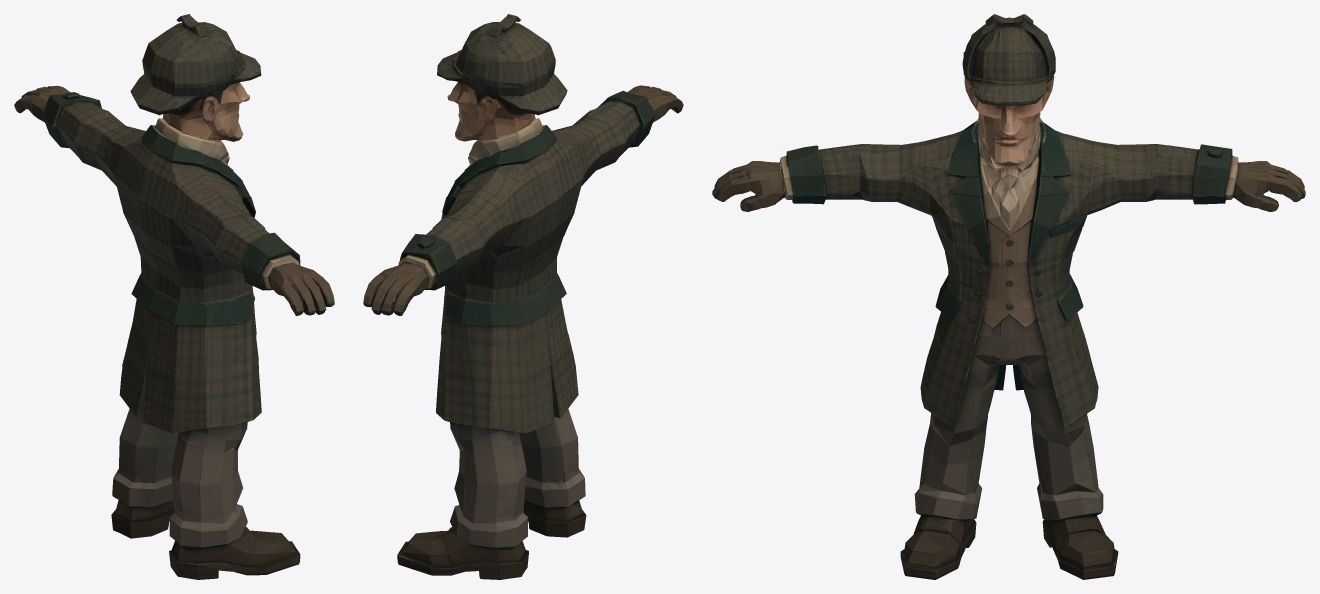
Rendered from tripo_convert_c5e42cd3-8e80-4c07-b849-3c092d88e322.fbx.
The picture shows the model from 3 angles, left to right: view 1: azimuth 30°, elevation 25°; view 2: azimuth 150°, elevation 25°; view 3: azimuth 270°, elevation 25°; orthographic projection. The views are drawn at different scales.
Visible parts, largest first — view 1: tripo_node_c5e42cd3; view 2: tripo_node_c5e42cd3; view 3: tripo_node_c5e42cd3.
Boxes of the visible parts, x1,y1,x2,y2 form: tripo_node_c5e42cd3: [14, 14, 334, 579]; tripo_node_c5e42cd3: [363, 14, 683, 579]; tripo_node_c5e42cd3: [712, 14, 1305, 579].
Bounding box in the file's own units: 0.2368 × 0.9922 × 0.998.
Materials: 1 (1 with a texture image).
